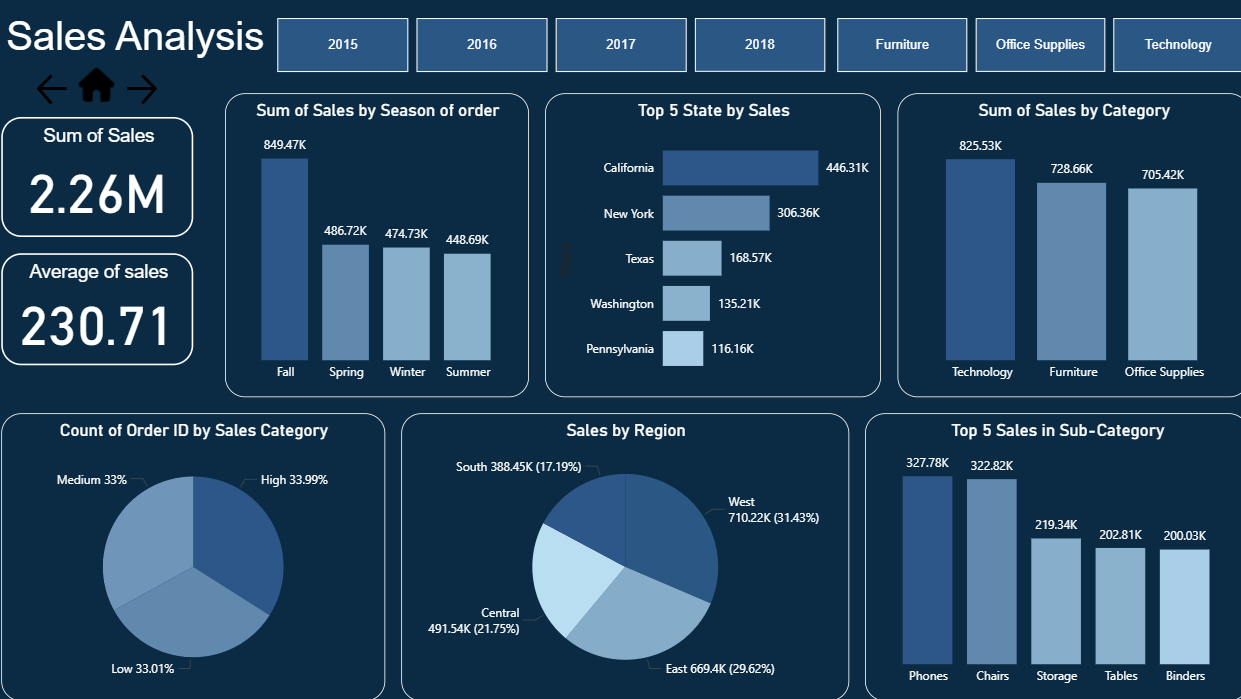

This screenshot's page, from the dashboard's own definition file:
{"tool":"powerbi","page":{"name":"Sales Analysis","canvas":[1280,720],"ordinal":1},"visuals":[{"type":"clusteredColumnChart","fields":{"Y":["Sum(Final-project by Excel.Sales)"],"Category":["Final-project by Excel.Category"]},"box":[912,96,352,304],"z":0},{"type":"clusteredColumnChart","title":"Top 5 Sales in Sub-Category","fields":{"Y":["Sum(Final-project by Excel.Sales)"],"Category":["Final-project by Excel.Sub-Category"]},"box":[880,416,384,288],"z":1000},{"type":"clusteredColumnChart","fields":{"Y":["Sum(Final-project by Excel.Sales)"],"Category":["Final-project by Excel.Season of order"]},"box":[240,96,304,304],"z":2000},{"type":"card","title":"Sum of Sales","fields":{"Values":["Sum(Final-project by Excel.Sales)"]},"box":[16,120,192,120],"z":3000},{"type":"card","title":"Average of sales","fields":{"Values":["Avg(Final-project by Excel.Sales)"]},"box":[16,256,192,112],"z":4000},{"type":"pieChart","fields":{"Category":["Final-project by Excel.Sales Category"],"Y":["CountNonNull(Final-project by Excel.Order ID)"]},"box":[16,416,384,288],"z":5000},{"type":"textbox","title":"Sales Analysis","box":[16,16,272,48],"z":6000},{"type":"advancedSlicerVisual","fields":{"Values":["Final-project by Excel.Order Date.Variation.Date Hierarchy.Year"]},"box":[288,16,560,64],"z":7000},{"type":"clusteredBarChart","title":"Top 5 State by Sales","fields":{"Category":["Final-project by Excel.State"],"Y":["Sum(Final-project by Excel.Sales)"]},"box":[560,96,336,304],"z":8000},{"type":"pieChart","title":"Sales by Region","fields":{"Category":["Final-project by Excel.Region"],"Y":["Sum(Final-project by Excel.Sales)"]},"box":[416,416,448,288],"z":9000},{"type":"advancedSlicerVisual","fields":{"Values":["Final-project by Excel.Category"]},"box":[848,16,416,64],"z":10000},{"type":"actionButton","box":[88,64,48,48],"z":11000},{"type":"actionButton","box":[136,72,40,40],"z":12000},{"type":"actionButton","box":[48,72,48,40],"z":13000}]}

Visuals, with their boxes in screenshot pixels (x1, y1, x2, y2), scaled from the page's 1280x720 canvas onto the 1241x699 screenshot:
clusteredColumnChart - Sum(Final-project by Excel.Sales) x Final-project by Excel.Category: bbox=[884, 93, 1225, 388]
"Top 5 Sales in Sub-Category" clusteredColumnChart: bbox=[853, 404, 1225, 683]
clusteredColumnChart - Sum(Final-project by Excel.Sales) x Final-project by Excel.Season of order: bbox=[233, 93, 527, 388]
"Sum of Sales" card: bbox=[16, 116, 202, 233]
"Average of sales" card: bbox=[16, 249, 202, 357]
pieChart - Final-project by Excel.Sales Category x CountNonNull(Final-project by Excel.Order ID): bbox=[16, 404, 388, 683]
"Sales Analysis" textbox: bbox=[16, 16, 279, 62]
advancedSlicerVisual - Final-project by Excel.Order Date.Variation.Date Hierarchy.Year: bbox=[279, 16, 822, 78]
"Top 5 State by Sales" clusteredBarChart: bbox=[543, 93, 869, 388]
"Sales by Region" pieChart: bbox=[403, 404, 838, 683]
advancedSlicerVisual - Final-project by Excel.Category: bbox=[822, 16, 1225, 78]
actionButton: bbox=[85, 62, 132, 109]
actionButton: bbox=[132, 70, 171, 109]
actionButton: bbox=[47, 70, 93, 109]
